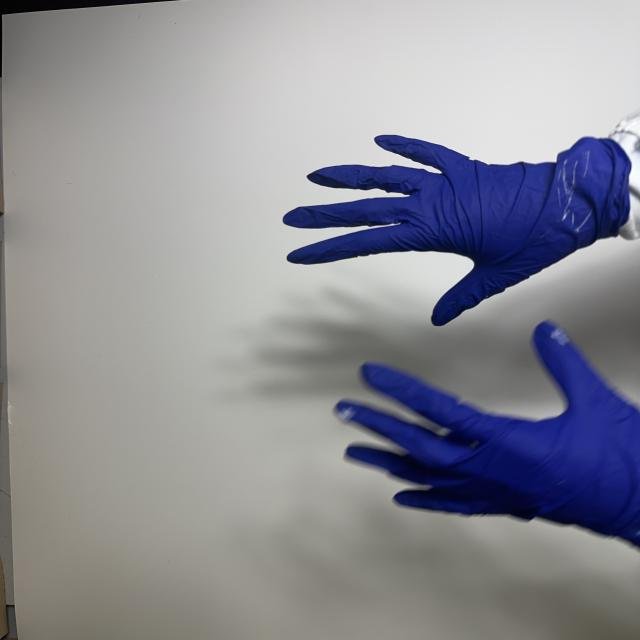gloves_contaminated: (283, 130, 636, 326), (336, 321, 640, 546)
